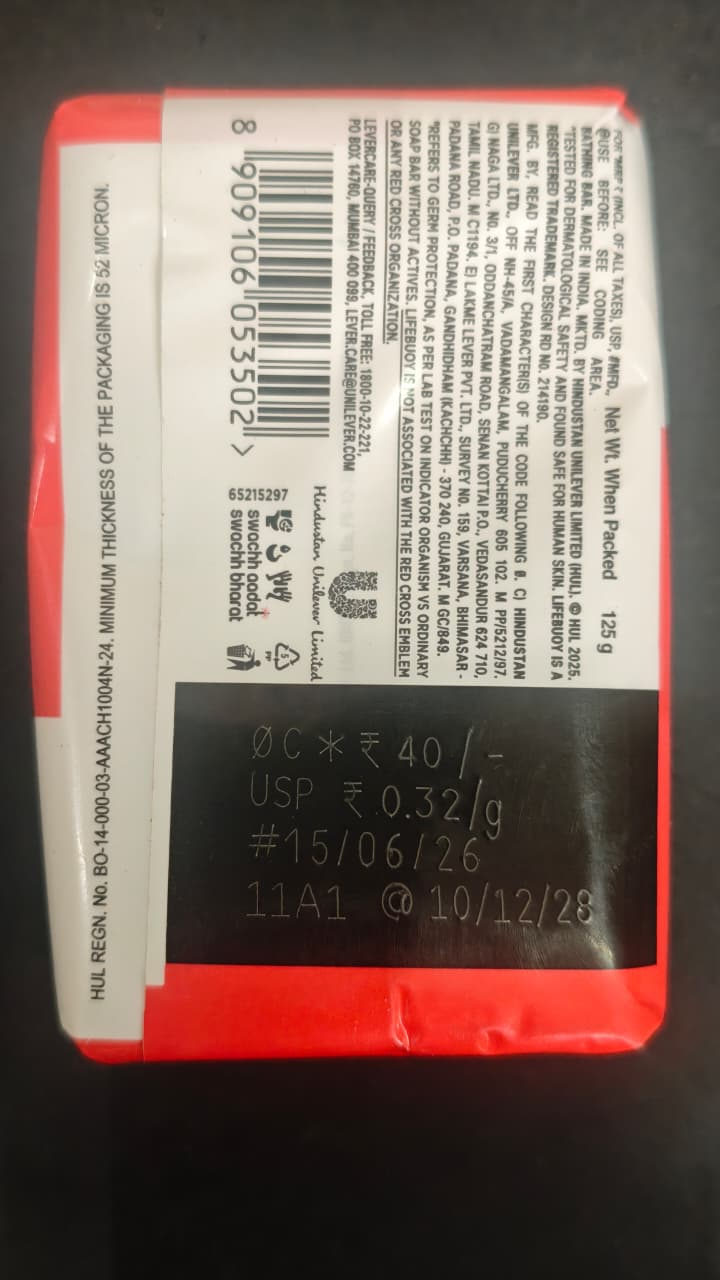EXP_Date: (380, 884, 617, 941)
MFG_Date: (242, 814, 502, 882)
MRP: (354, 724, 512, 779)
